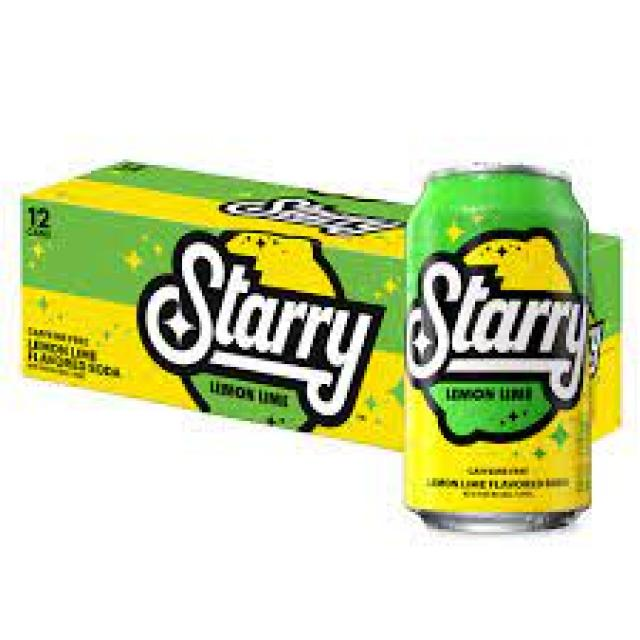Cans: (395, 151, 603, 546)
